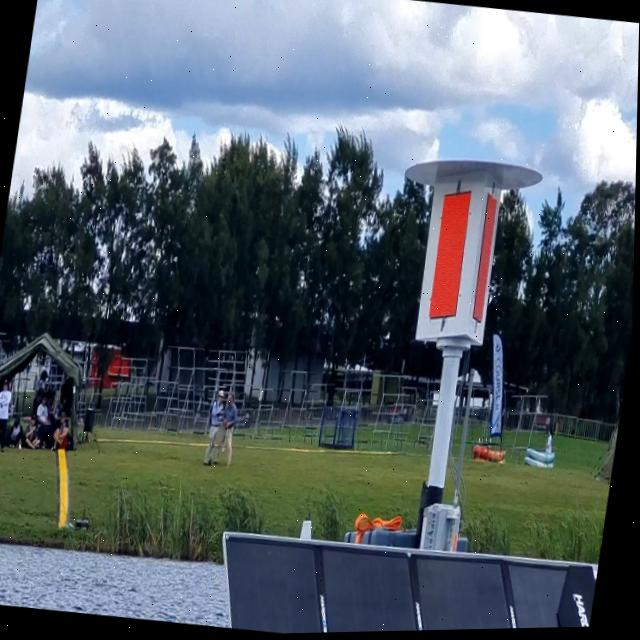led: (421, 181, 483, 329), (466, 185, 503, 338)
